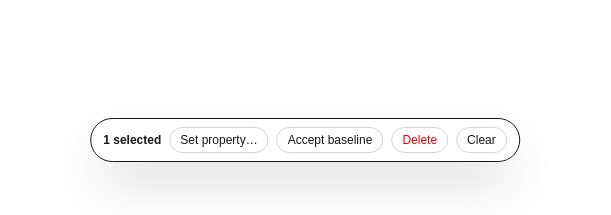
Test: SelectionToolbar (t33 generic field-patch redesign) › choosing a field shows its value editor, and committing a value builds the correct preview
Step 1. Click the button "Set property…" → (219, 140), box [169,127,269,153]
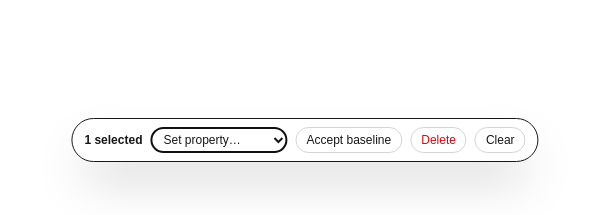
Step 2. Select "Status" in the dropdown named "Set property to" → (219, 140), box [150,127,288,153]
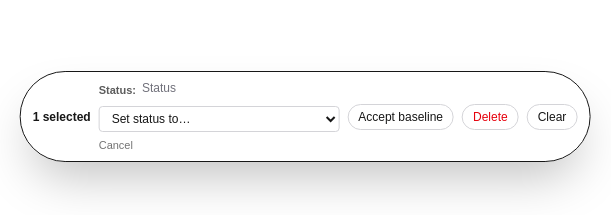
Step 3. Select "at-risk" in the dropdown named "Set status to" → (219, 119), box [99,106,339,132]
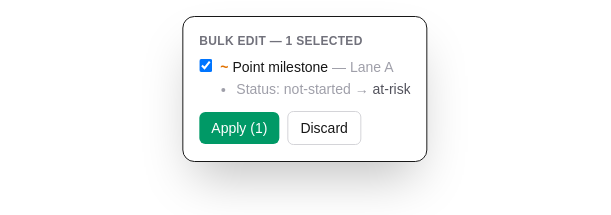
Expected: the text "Bulk edit — 1 selected" is shown, [199,34,363,48]
Expected: the text "Point milestone" is shown, [232,59,328,75]
Expected: the list item "Status: not-started → at-risk" is shown, [236,79,411,99]
